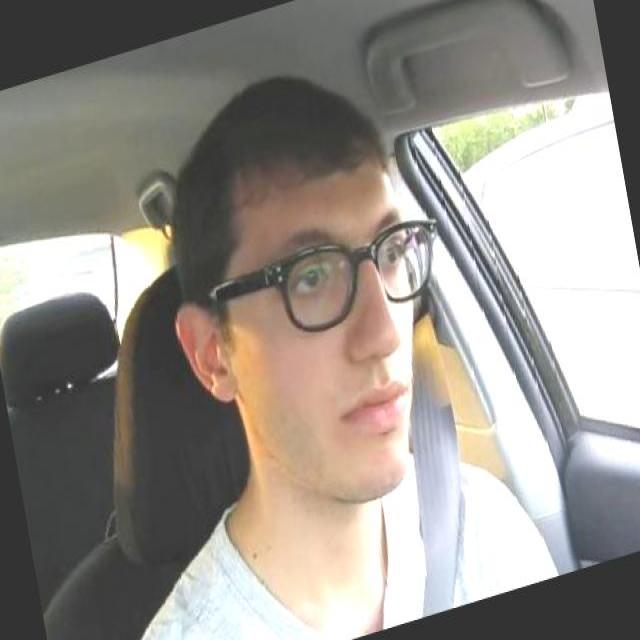seatbelt: (388, 292, 546, 635)
